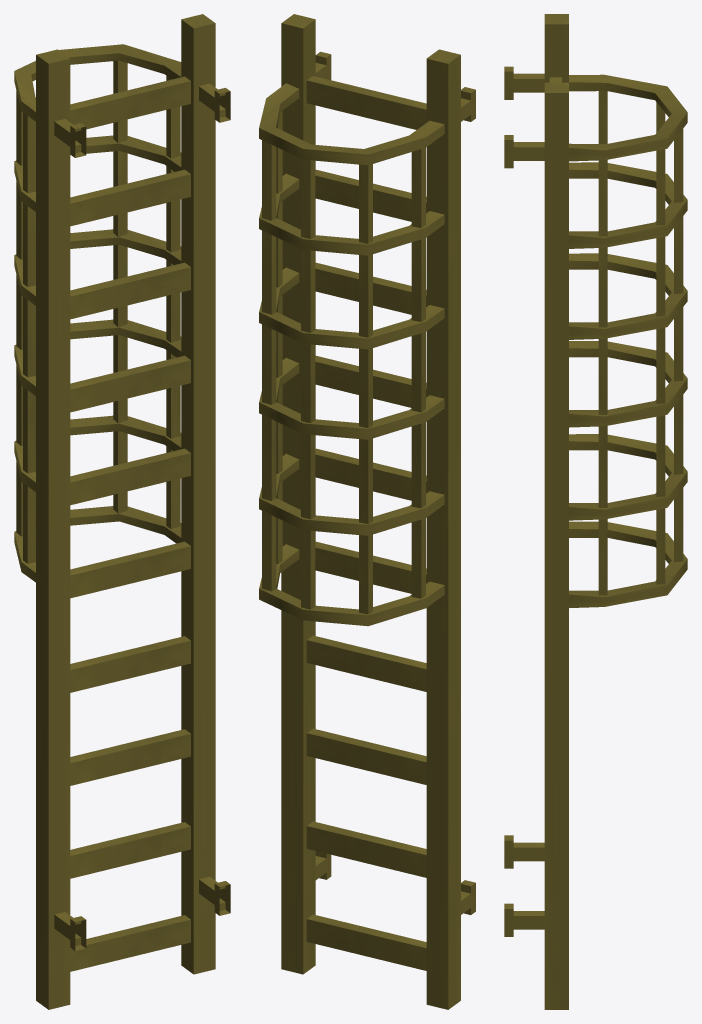
The model's file is SafetyLadder.fbx.
3 renders of one model, left to right at view 1: azimuth 30°, elevation 25°; view 2: azimuth 150°, elevation 25°; view 3: azimuth 270°, elevation 25°, orthographic. The views are drawn at different scales.
Parts seen in each view (by area): view 1: EscadaVerticalProtecao; view 2: EscadaVerticalProtecao; view 3: EscadaVerticalProtecao.
Part boxes in pixels (box(x1,y1,x2,y2)): EscadaVerticalProtecao: box(14, 14, 230, 1009); EscadaVerticalProtecao: box(259, 14, 475, 1009); EscadaVerticalProtecao: box(504, 14, 687, 1009).
Bounding box in the file's own units: 37.44 × 203 × 36.79.
Materials: 1 (1 with a texture image).
